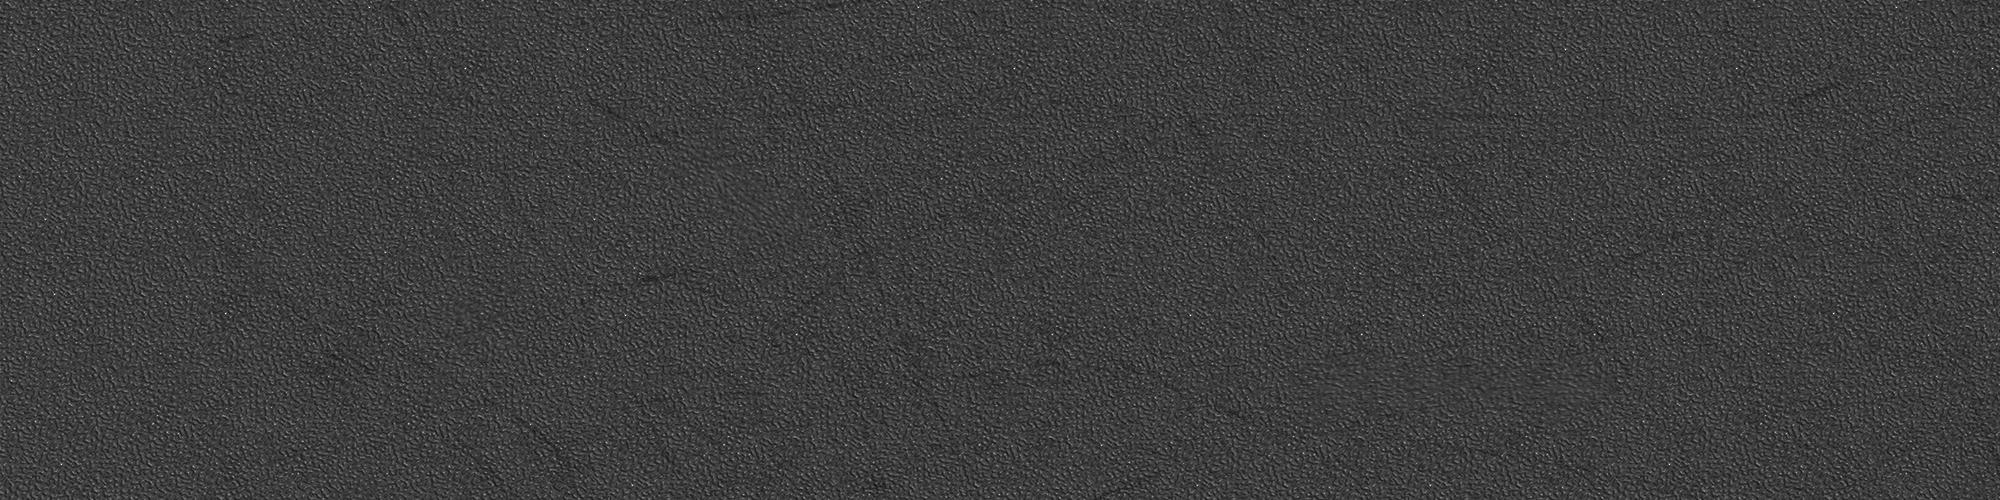Scratches: (761, 94, 1249, 328), (750, 64, 967, 445), (1147, 40, 1381, 372), (468, 142, 686, 474), (1247, 0, 1508, 224), (335, 316, 585, 499), (1489, 209, 1668, 389), (963, 343, 1277, 445), (1270, 349, 1676, 415), (1603, 179, 1793, 301), (221, 233, 372, 378), (1663, 65, 1847, 176), (1807, 20, 1907, 173), (1737, 367, 1855, 474), (489, 166, 594, 284), (1441, 432, 1616, 500), (583, 85, 703, 163), (1643, 293, 1745, 381), (378, 4, 464, 105), (1802, 263, 1904, 344), (541, 8, 812, 33), (834, 392, 897, 500), (1079, 460, 1189, 499), (1417, 114, 1585, 136), (232, 180, 286, 239), (677, 409, 737, 462), (626, 245, 682, 298), (204, 26, 270, 51)
